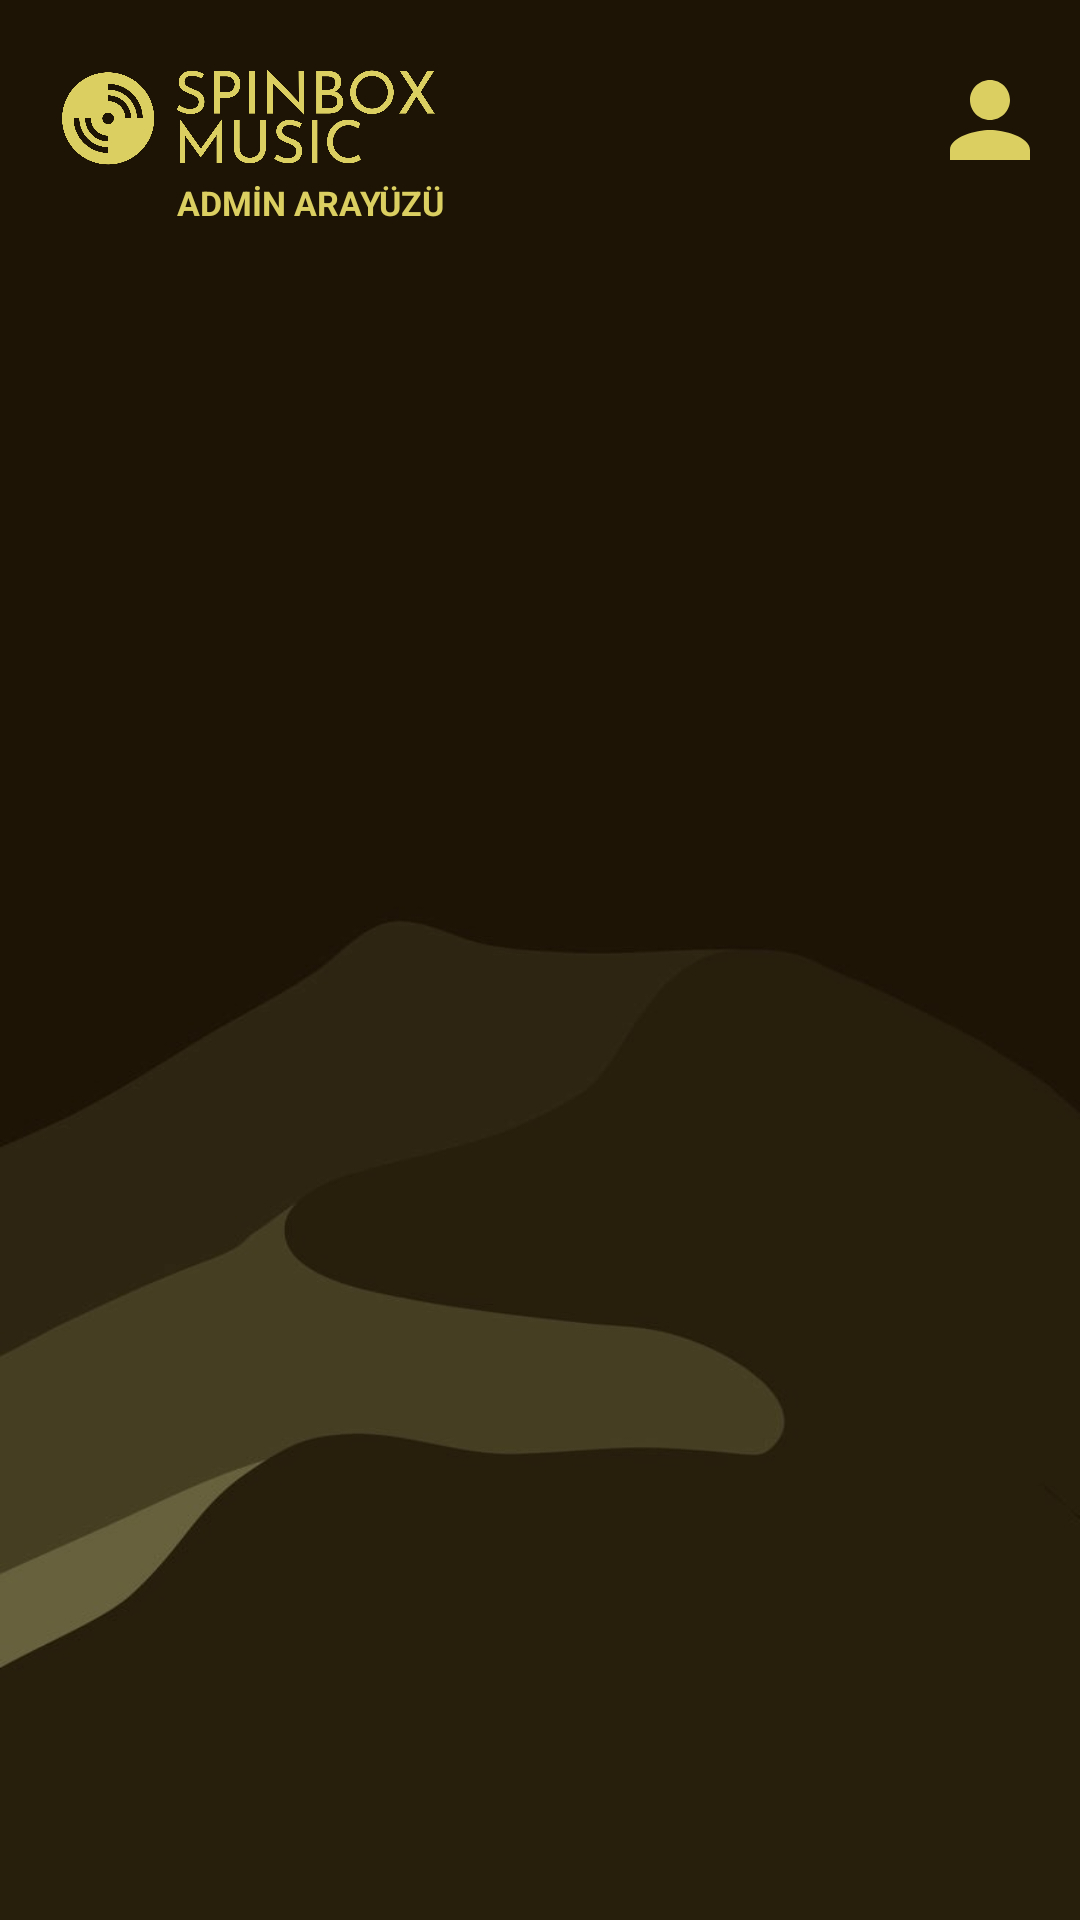

Icon click points for this 1080w x 1920h phone screenshot, format point (x, y):
person: point (990, 120)
